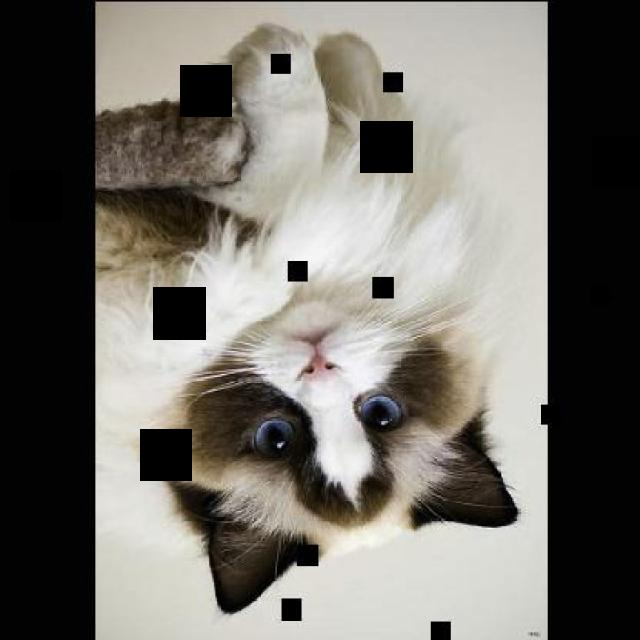unauthorized: (94, 21, 520, 614)
